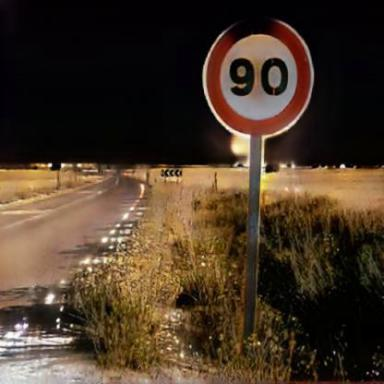Speed_limit_90: (204, 22, 312, 132)
